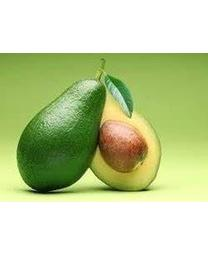avocado: (68, 81, 162, 191), (16, 78, 106, 192)
